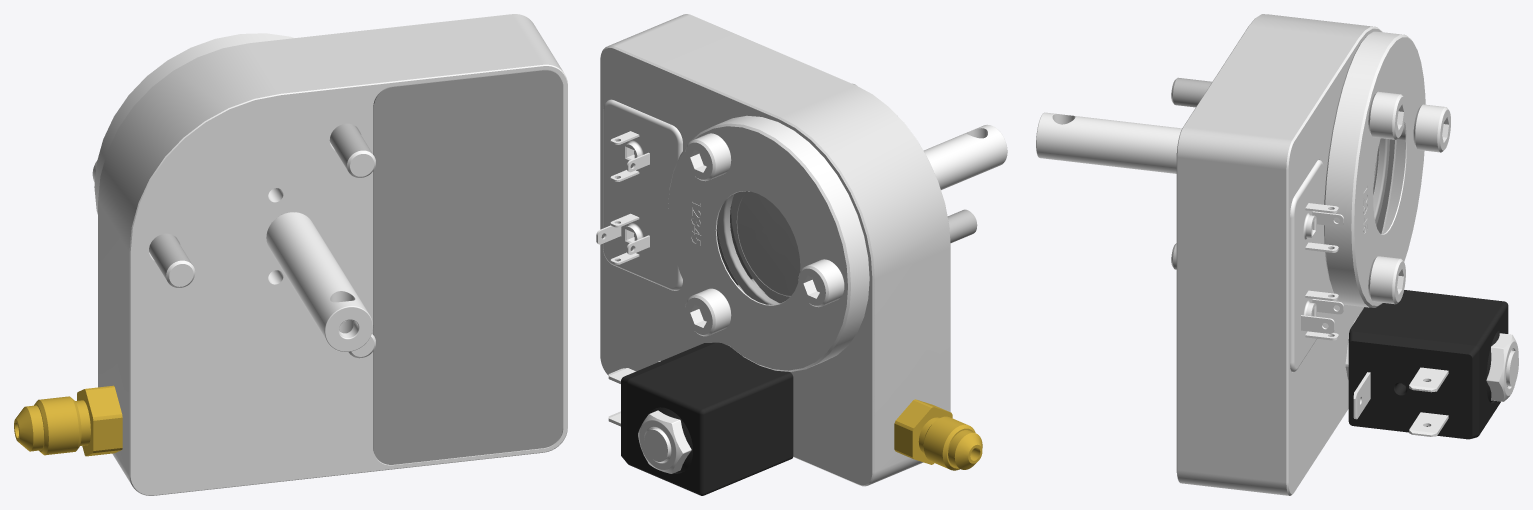
File: COM-Compressor Oil Management.glb
3 views of the same model, side by side, from view 1: azimuth 30°, elevation 25°; view 2: azimuth 150°, elevation 25°; view 3: azimuth 270°, elevation 25° (orthographic). The views are drawn at different scales.
Visible parts, largest first — view 1: BASE_UNIT-3D-Correct coil direction, BASE_UNIT-3D-Correct coil direction.006, BASE_UNIT-3D-Correct coil direction.001, BASE_UNIT-3D-Correct coil direction.003, BASE_UNIT-3D-Correct coil direction.005; view 2: BASE_UNIT-3D-Correct coil direction, BASE_UNIT-3D-Correct coil direction.006, BASE_UNIT-3D-Correct coil direction.002, BASE_UNIT-3D-Correct coil direction.003, BASE_UNIT-3D-Correct coil direction.001, BASE_UNIT-3D-Correct coil direction.005; view 3: BASE_UNIT-3D-Correct coil direction, BASE_UNIT-3D-Correct coil direction.006, BASE_UNIT-3D-Correct coil direction.001, BASE_UNIT-3D-Correct coil direction.002, BASE_UNIT-3D-Correct coil direction.005.
Part boxes in pixels (x1,y1,x2,y2): BASE_UNIT-3D-Correct coil direction: (92,33,567,495); BASE_UNIT-3D-Correct coil direction.006: (98,14,563,484); BASE_UNIT-3D-Correct coil direction.001: (266,212,373,351); BASE_UNIT-3D-Correct coil direction.003: (14,385,122,456); BASE_UNIT-3D-Correct coil direction.005: (149,123,375,358); BASE_UNIT-3D-Correct coil direction: (596,45,948,495); BASE_UNIT-3D-Correct coil direction.006: (609,14,950,484); BASE_UNIT-3D-Correct coil direction.002: (717,191,799,304); BASE_UNIT-3D-Correct coil direction.003: (894,399,982,470); BASE_UNIT-3D-Correct coil direction.001: (923,124,1007,189); BASE_UNIT-3D-Correct coil direction.005: (852,83,977,242); BASE_UNIT-3D-Correct coil direction: (1176,19,1518,495); BASE_UNIT-3D-Correct coil direction.006: (1177,14,1394,495); BASE_UNIT-3D-Correct coil direction.001: (1036,112,1181,173); BASE_UNIT-3D-Correct coil direction.002: (1373,126,1405,233); BASE_UNIT-3D-Correct coil direction.005: (1171,77,1212,269).
Size of the model in its own units: 0.6006 by 0.4638 by 0.5732.
